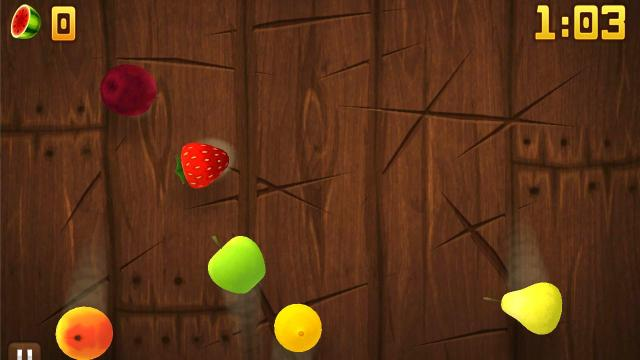fruit: (207, 234, 265, 294), (498, 282, 564, 334), (54, 305, 114, 359), (100, 63, 158, 116), (175, 142, 231, 188), (274, 303, 322, 353)
ignore: (10, 3, 42, 41)
